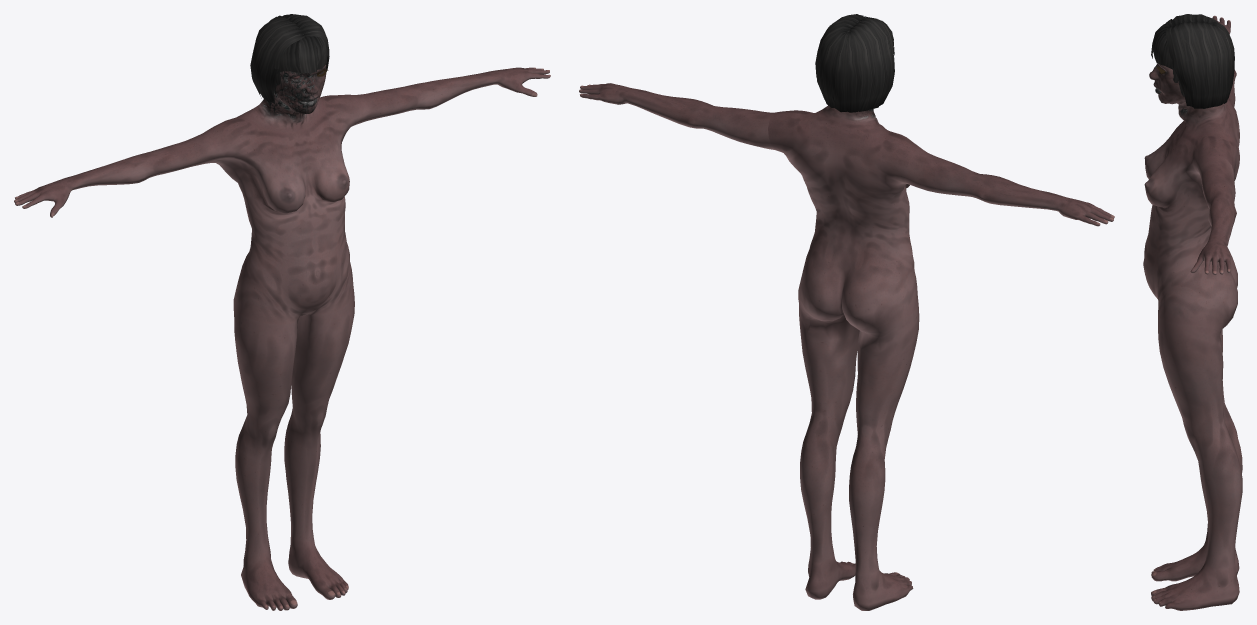
File: peluca1.obj
3 views of the same model, side by side, from view 1: azimuth 30°, elevation 25°; view 2: azimuth 150°, elevation 25°; view 3: azimuth 270°, elevation 25° (orthographic).
Parts seen in each view (by area): view 1: Body, Hair; view 2: Body, Hair; view 3: Body, Hair.
Part boxes in pixels (x1,y1,x2,y2): Body: (14,65,550,610); Hair: (250,14,329,103); Body: (579,83,1114,610); Hair: (815,14,894,112); Body: (1143,15,1242,610); Hair: (1151,14,1234,108).
Bounding box in the file's own units: 174 × 178 × 28.12.
Materials: 2 (2 with a texture image).
